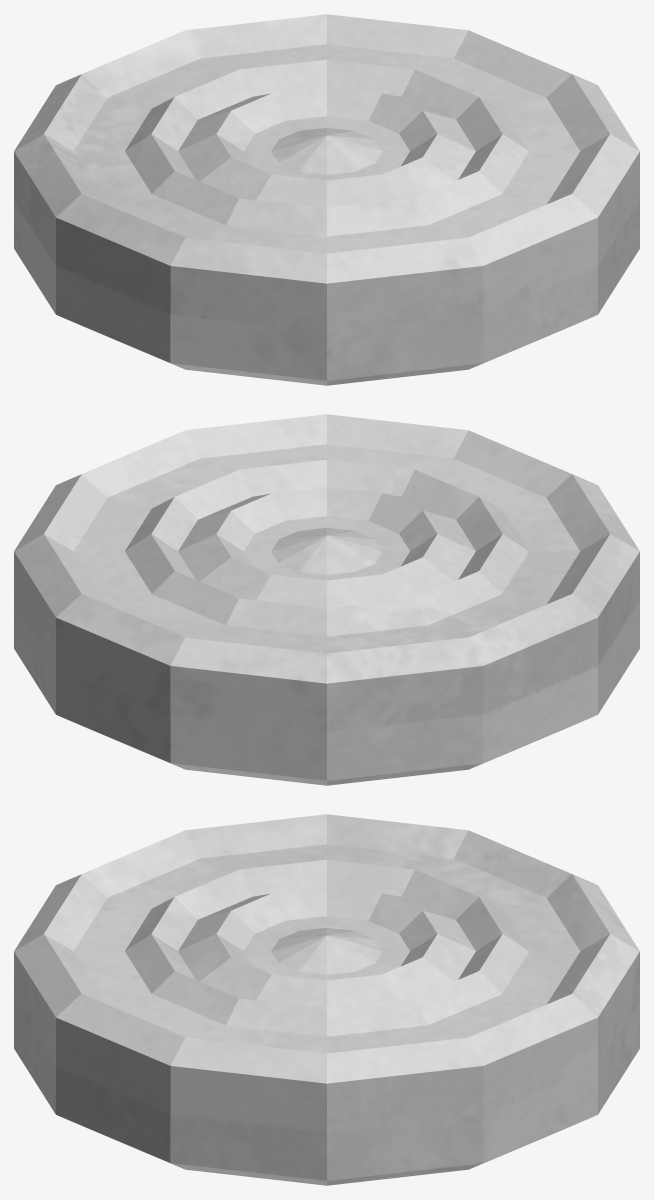
The model's file is light_piece.fbx.
3 renders of one model, top to bottom at view 1: azimuth 30°, elevation 25°; view 2: azimuth 150°, elevation 25°; view 3: azimuth 270°, elevation 25°, orthographic.
Visible parts, largest first — view 1: Light Piece; view 2: Light Piece; view 3: Light Piece.
Part boxes in pixels (<box>): Light Piece: <box>14,14,639,385</box>; Light Piece: <box>14,414,639,785</box>; Light Piece: <box>14,814,639,1185</box>.
Size of the model in its own units: 5.13 by 1.2 by 5.13.
1 material, 1 textured.
